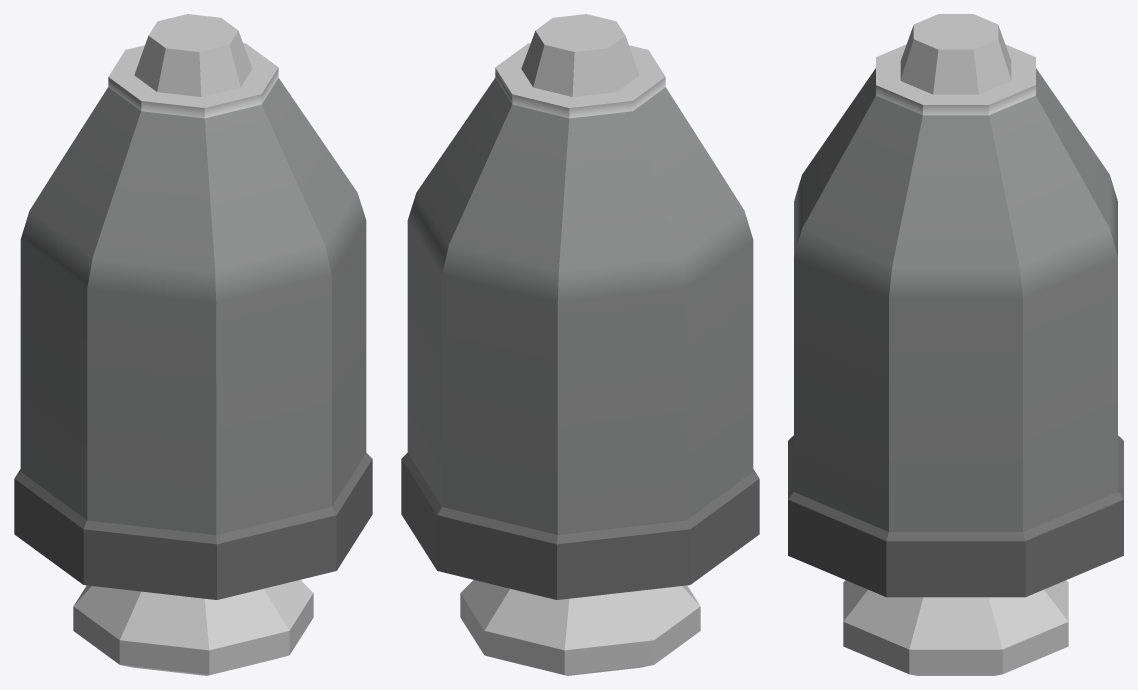
Rendered from Pod.fbx.
3 views of the same model, side by side, from view 1: azimuth 30°, elevation 25°; view 2: azimuth 150°, elevation 25°; view 3: azimuth 270°, elevation 25° (orthographic).
Parts seen in each view (by area): view 1: pCylinder1; view 2: pCylinder1; view 3: pCylinder1.
Boxes of the visible parts, <box> form: pCylinder1: <box>14,14,372,675</box>; pCylinder1: <box>401,14,759,675</box>; pCylinder1: <box>788,14,1123,675</box>.
Size of the model in its own units: 7.02 by 13.95 by 7.02.
1 material, 1 textured.
